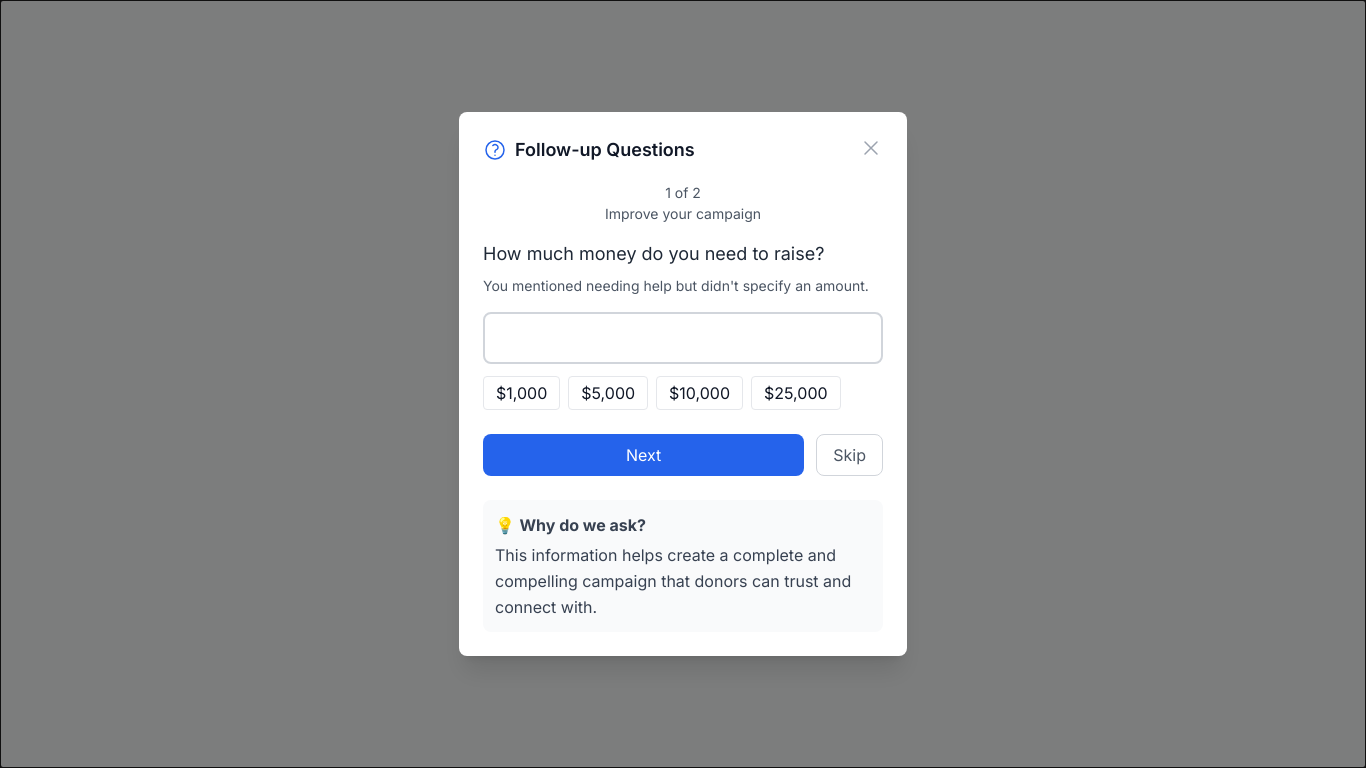
Test case: FollowUpQuestionModal Component › Answer Input Methods › should populate input when suggestion is clicked
Click the button "$5,000" at (608, 393), box [568,376,648,410]
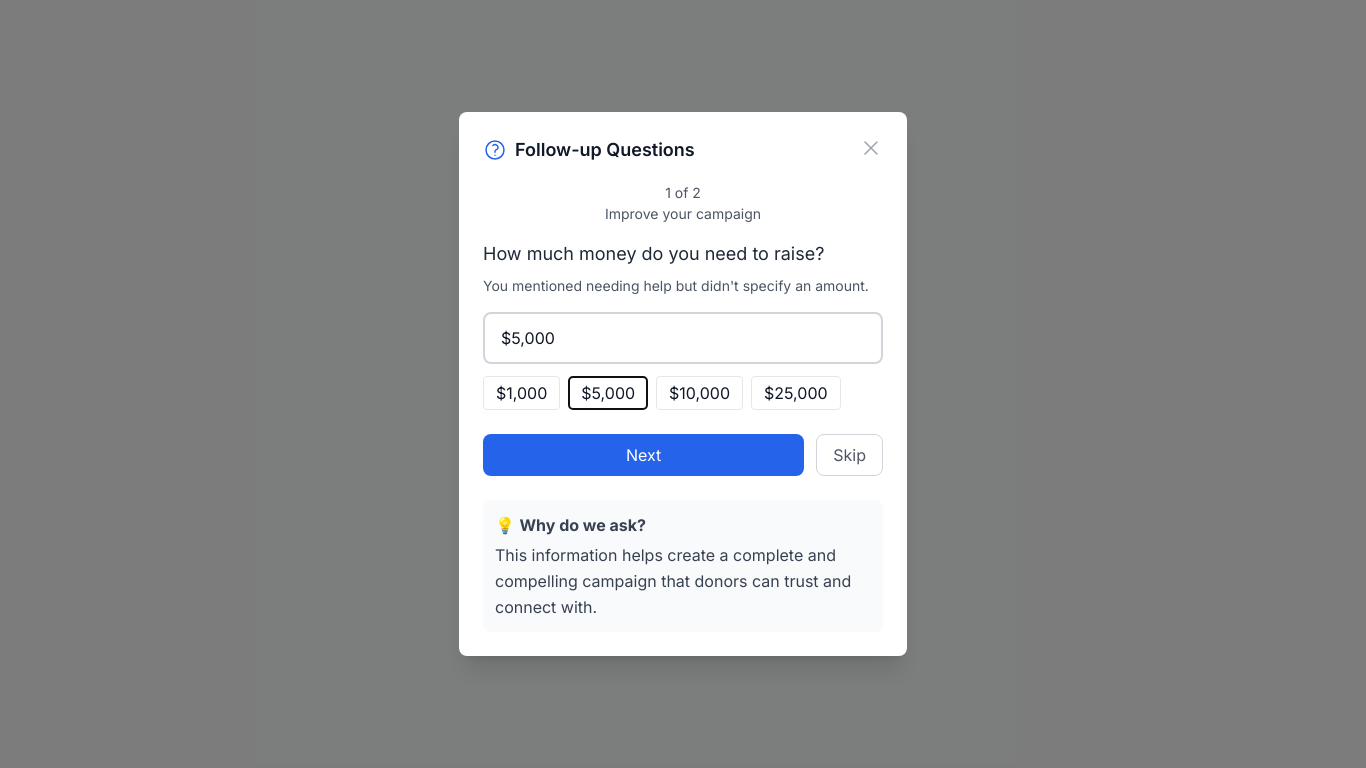
Now the field holds "$5,000", box [483,312,883,364]
